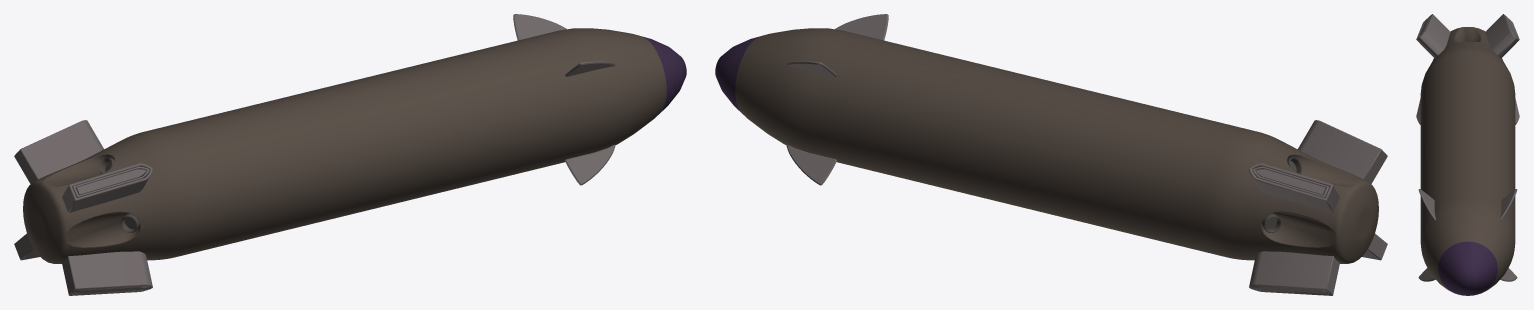
The model's file is AGR-75-Heavypin-MainRocket.fbx.
3 renders of one model, left to right at view 1: azimuth 30°, elevation 25°; view 2: azimuth 150°, elevation 25°; view 3: azimuth 270°, elevation 25°, orthographic. The views are drawn at different scales.
Parts seen in each view (by area): view 1: Main, Cube-3-001-002-003-004, AirController, Cube-1-002, Engine, Cube-2-002; view 2: Main, Cube-3-001-002-003-004, AirController, Cube-1-001, Engine, Cube-2-001; view 3: Main, Cube-3-001-002-003-004, AirController.
Part boxes in pixels (<box>): Main: <box>23,28,686,263</box>; Cube-3-001-002-003-004: <box>14,120,152,295</box>; AirController: <box>513,14,615,185</box>; Cube-1-002: <box>76,169,145,195</box>; Engine: <box>99,157,139,232</box>; Cube-2-002: <box>72,166,149,197</box>; Main: <box>715,28,1378,263</box>; Cube-3-001-002-003-004: <box>1249,120,1387,295</box>; AirController: <box>786,14,888,185</box>; Cube-1-001: <box>1256,169,1325,195</box>; Engine: <box>1262,157,1302,232</box>; Cube-2-001: <box>1252,166,1329,197</box>; Main: <box>1420,27,1515,295</box>; Cube-3-001-002-003-004: <box>1416,14,1519,124</box>; AirController: <box>1418,189,1517,281</box>.
Bounding box in the file's own units: 1149 × 218 × 218.
